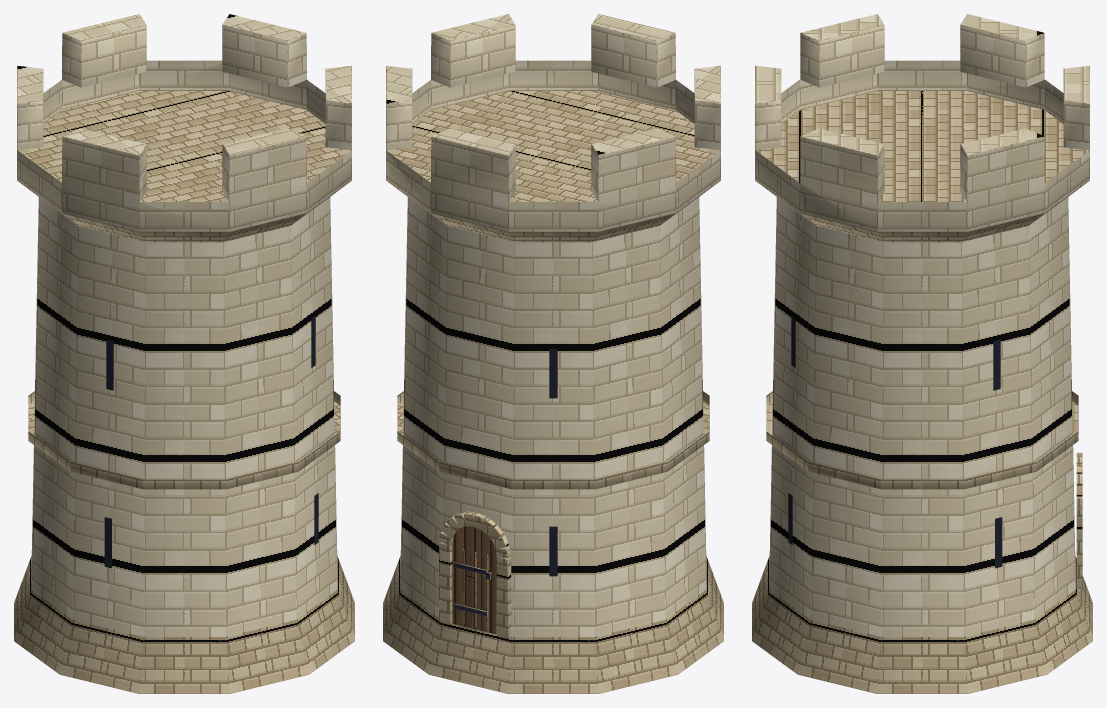
File: town_wall_tower_1.glb
3 views of the same model, side by side, from view 1: azimuth 30°, elevation 25°; view 2: azimuth 150°, elevation 25°; view 3: azimuth 270°, elevation 25° (orthographic).
Visible parts, largest first — view 1: town_wall_tower_2; view 2: town_wall_tower_2; view 3: town_wall_tower_2.
Part boxes in pixels (x1,y1,x2,y2): town_wall_tower_2: (14, 14, 354, 693); town_wall_tower_2: (383, 14, 723, 693); town_wall_tower_2: (752, 14, 1092, 693).
Size of the model in its own units: 5.6 by 9.75 by 5.6.
5 materials, 5 textured.
